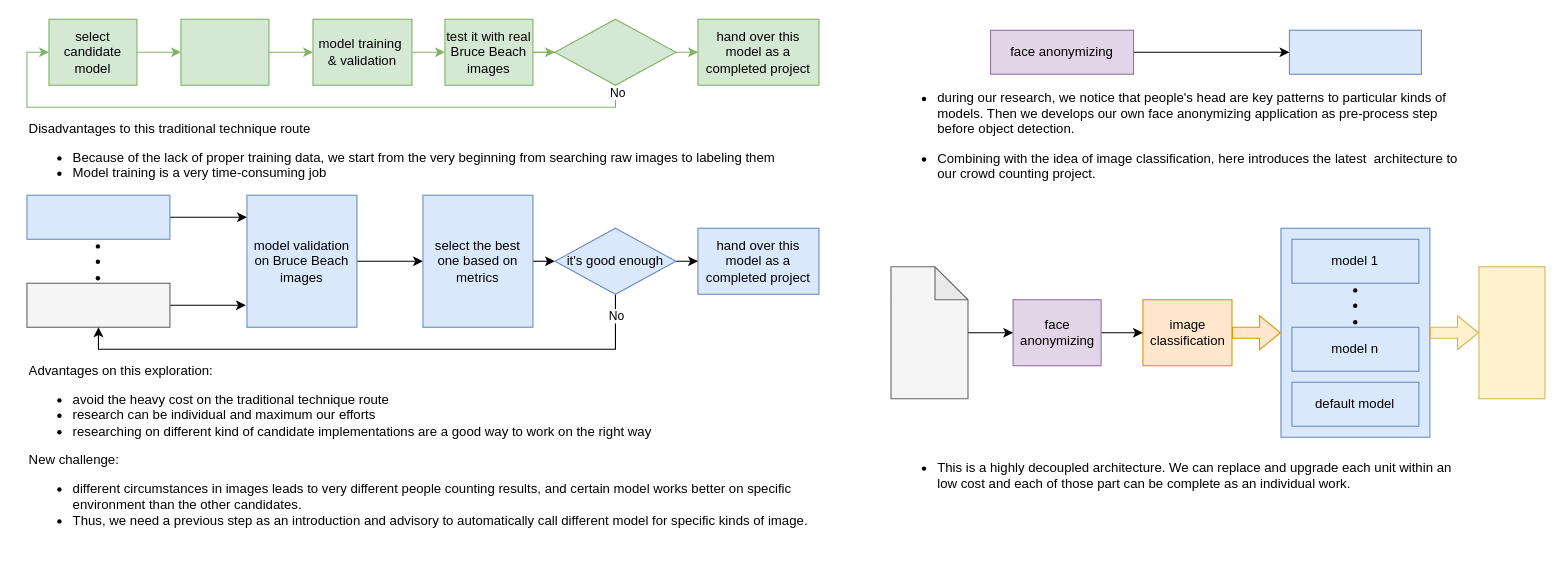
Some shapes in this 1564 by 578 pixel diagram are drawn without their labels. Here are the shapes that lost their labels. From the top down, the box of each, then its label:
(180, 18, 269, 85): prepare training images
(554, 18, 676, 85): it's very good
(1288, 29, 1421, 74): models
(26, 194, 170, 239): candidate pre-trained models
(26, 282, 170, 327): new candidates
(890, 266, 968, 399): image
(1478, 266, 1545, 399): number of people
